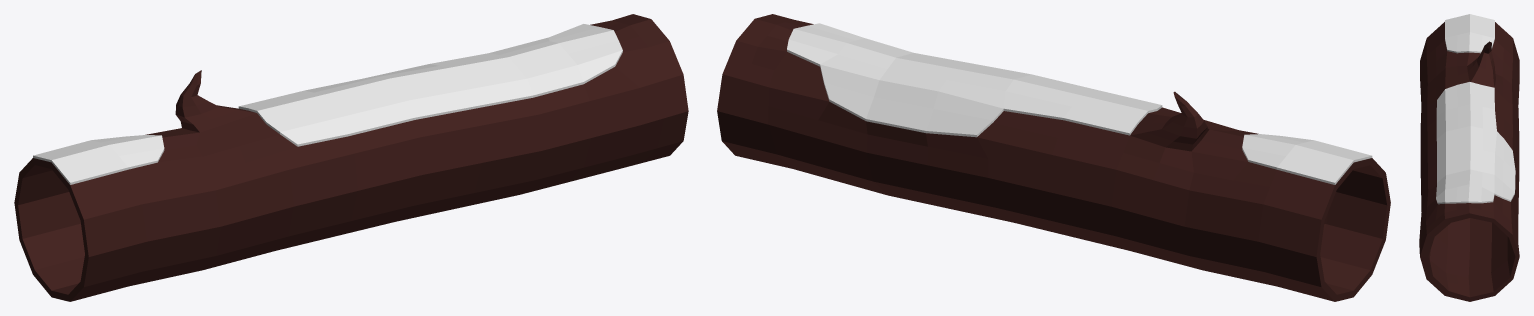
Rendered from Trunkb.fbx.
3 views of the same model, side by side, from view 1: azimuth 30°, elevation 25°; view 2: azimuth 150°, elevation 25°; view 3: azimuth 270°, elevation 25° (orthographic). The views are drawn at different scales.
Parts seen in each view (by area): view 1: Trunk.001; view 2: Trunk.001; view 3: Trunk.001.
Boxes of the visible parts, box(x1,y1,x2,y2) form: Trunk.001: box(14, 14, 688, 301); Trunk.001: box(717, 14, 1390, 301); Trunk.001: box(1419, 14, 1519, 301).
Size of the model in its own units: 931 by 266 by 202.
